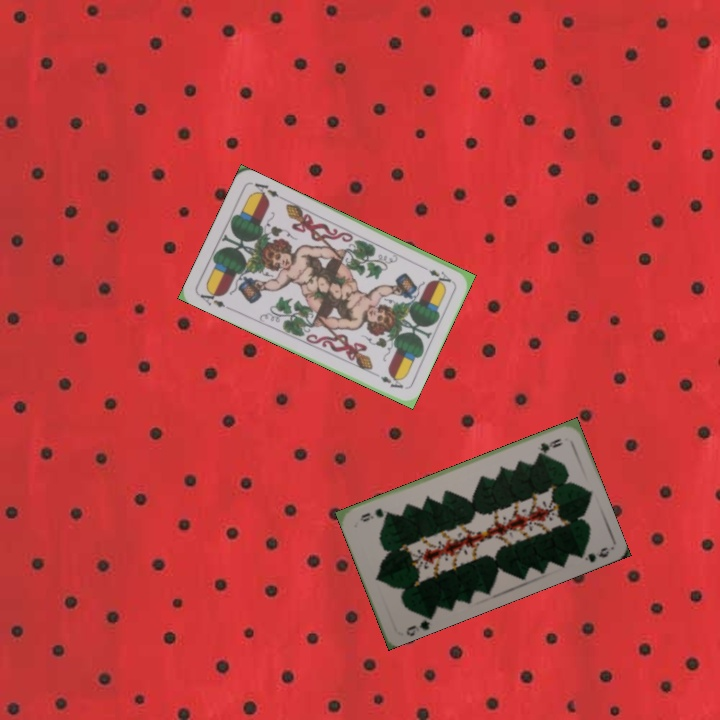EA: (196, 286, 234, 313), (425, 265, 455, 285)
G9: (402, 611, 435, 638), (534, 434, 565, 457)
